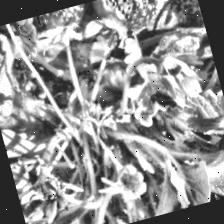Anthracnose Fruit Rot: (100, 0, 149, 25)
